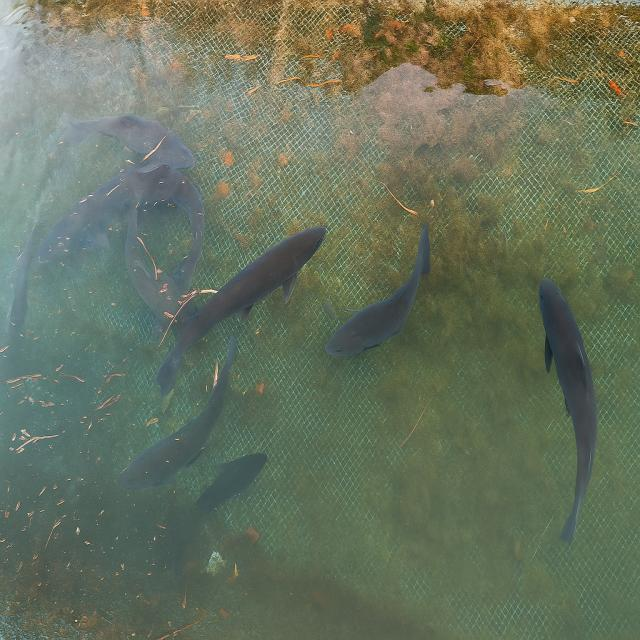ikan: (154, 224, 326, 398), (35, 161, 205, 333), (116, 334, 237, 491), (537, 276, 598, 545), (324, 222, 431, 358)
